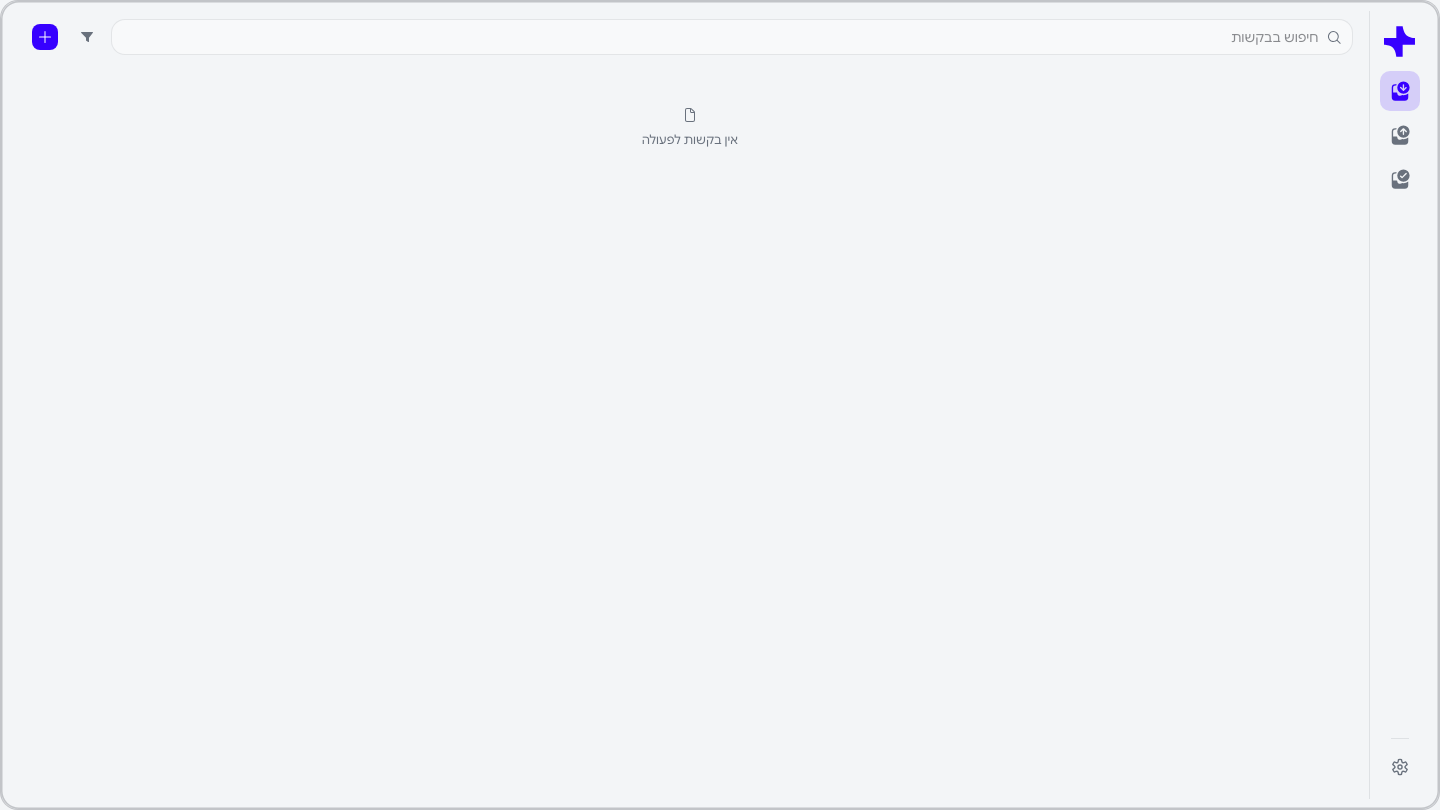
Scenario: WorkspaceReadyScreen › does not offer join-code creation to a regular member
Click the button named "הגדרות" at (1400, 767), box [1380,747,1420,787]
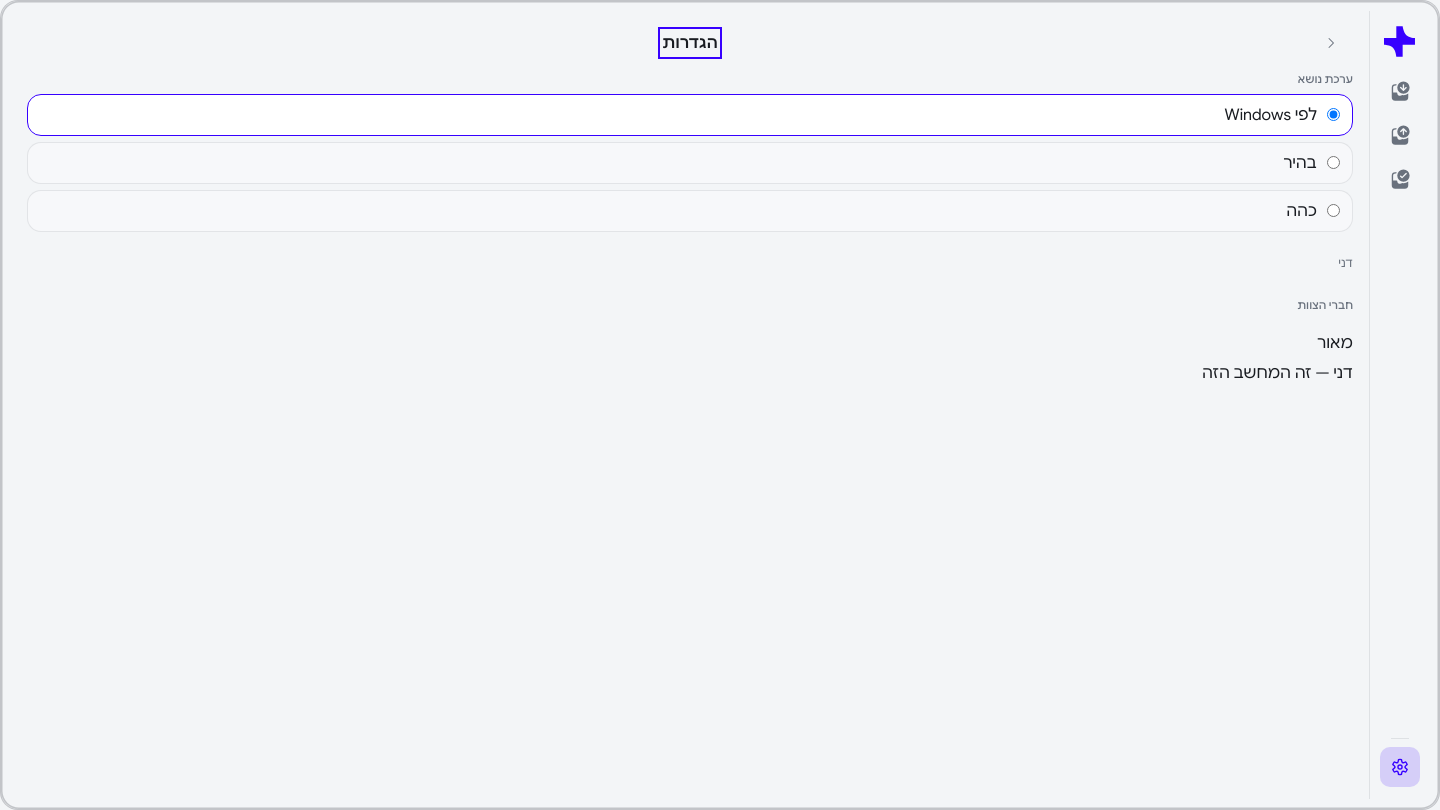
Click the button named "חזרה" at (1331, 43), box [1313,25,1349,61]
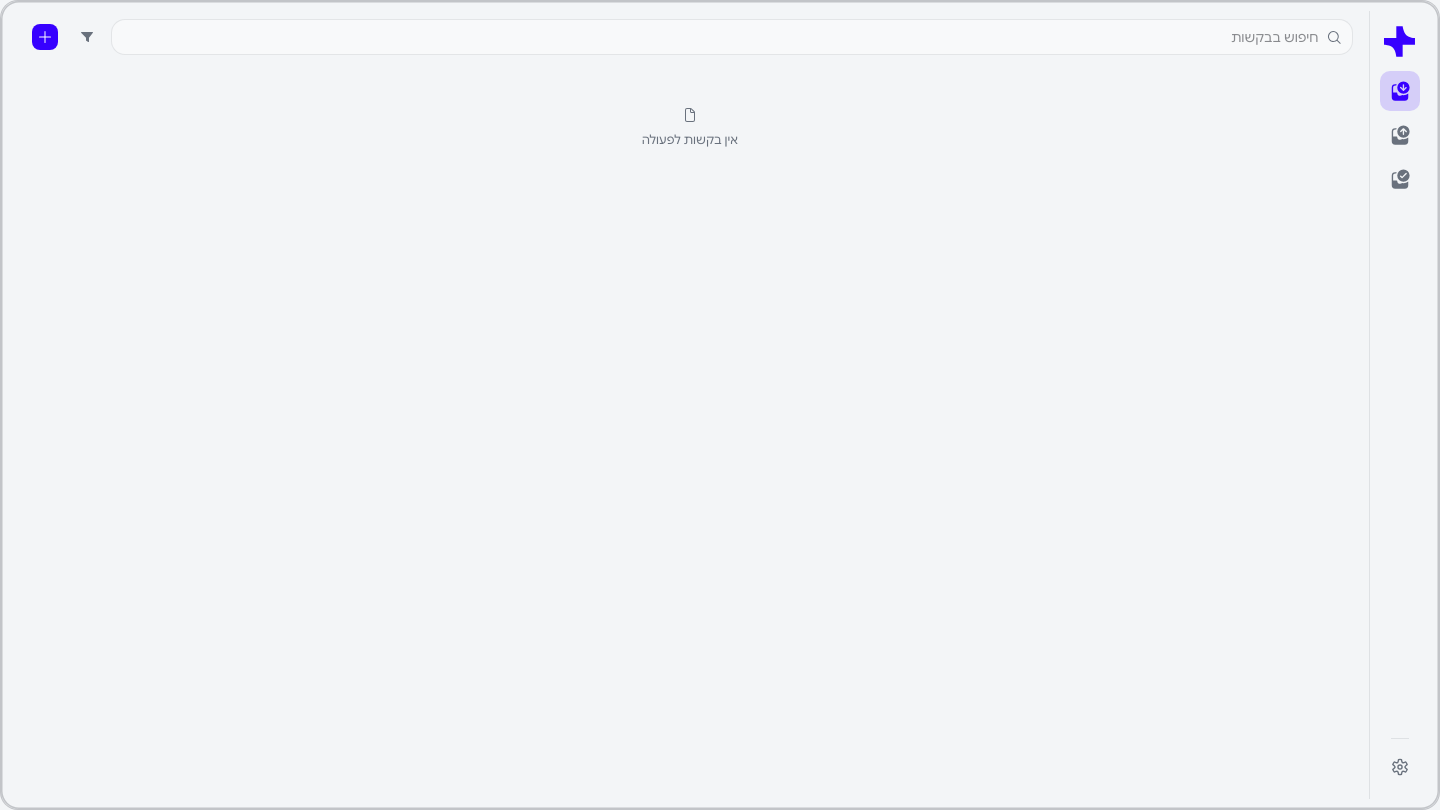
Click the button named "בקשה חדשה" at (45, 37), box [27,19,63,55]
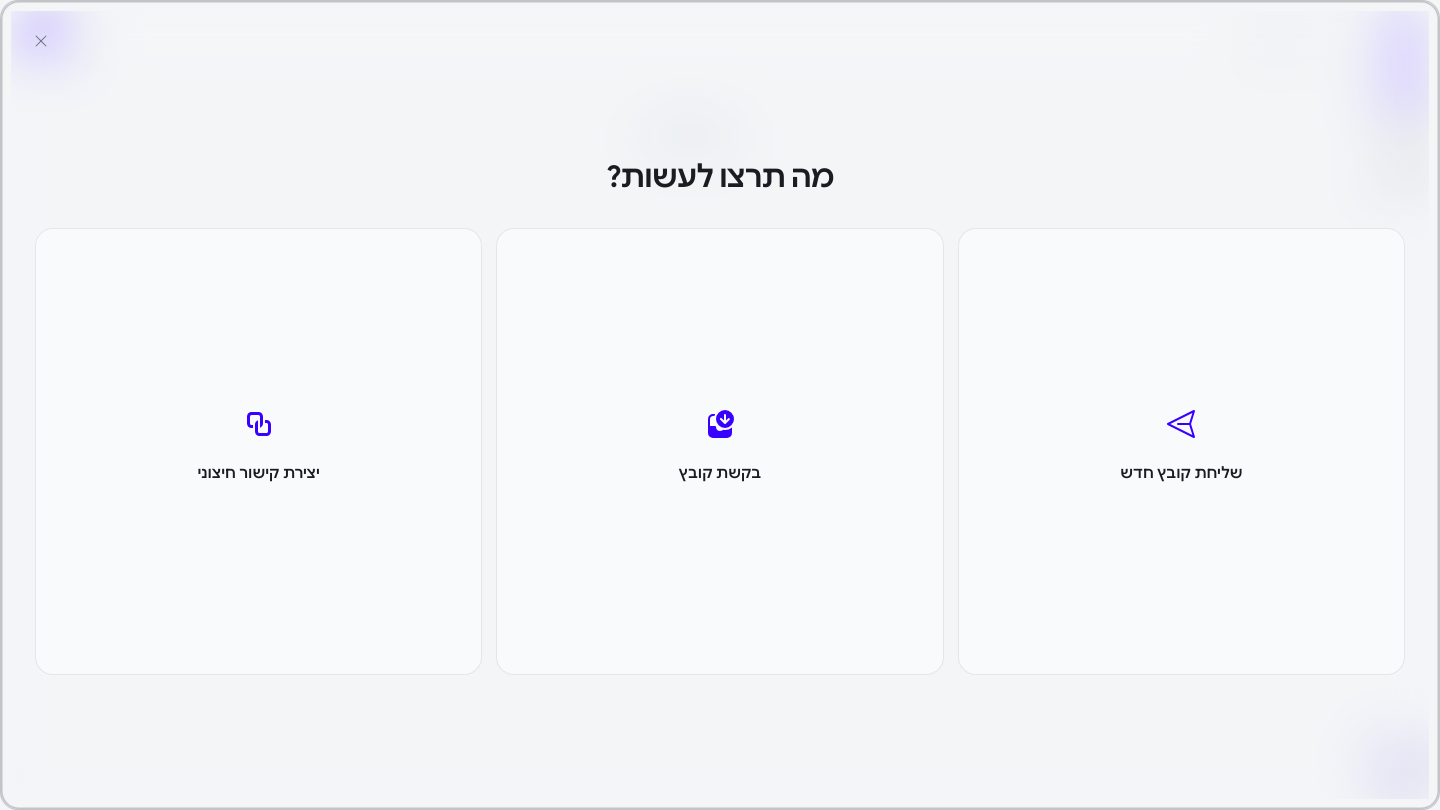
Check: the heading "מה תרצו לעשות?" is shown, box [606,159,834,196]
Check: the button "שליחת קובץ חדש" is shown, box [958,228,1405,675]
